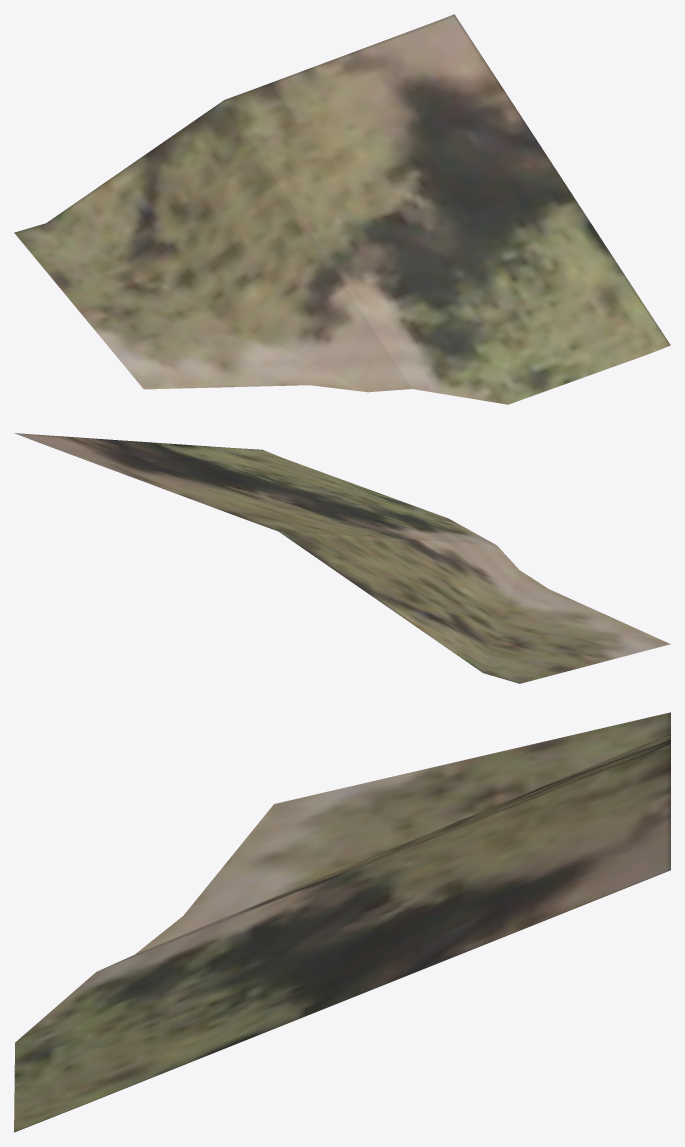
Rendered from CM_Terrain_24486363_6819999.fbx.
3 views of the same model, one above another, from view 1: azimuth 30°, elevation 25°; view 2: azimuth 150°, elevation 25°; view 3: azimuth 270°, elevation 25° (orthographic). The views are drawn at different scales.
Visible parts, largest first — view 1: CM_Terrain_24486363_6819999_LOD0; view 2: CM_Terrain_24486363_6819999_LOD0; view 3: CM_Terrain_24486363_6819999_LOD0.
Boxes of the visible parts, left/top/right/bottom form: CM_Terrain_24486363_6819999_LOD0: left=14, top=14, right=670, bottom=404; CM_Terrain_24486363_6819999_LOD0: left=14, top=433, right=670, bottom=683; CM_Terrain_24486363_6819999_LOD0: left=14, top=712, right=670, bottom=1132.
Size of what is drawn, in the model's own units: 15.03 by 6.27 by 12.76.
